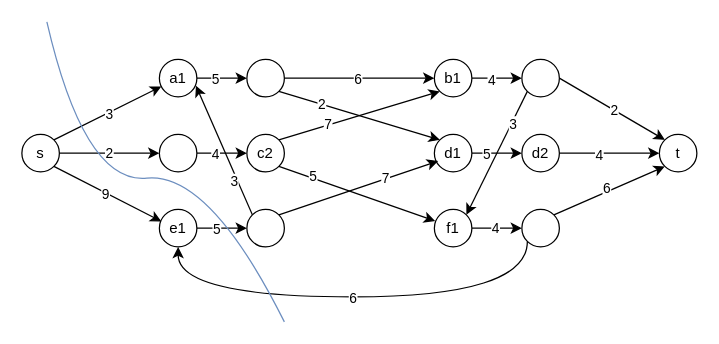
Image size: 719x344. Some labels were removed from this diagram. The centre of each missing label's shape, as x and y in pixels:
"a2" belongs at pixel 265 77.
"b2" belongs at pixel 540 77.
"c1" belongs at pixel 177 152.
"e2" belongs at pixel 265 227.
"f2" belongs at pixel 540 227.
